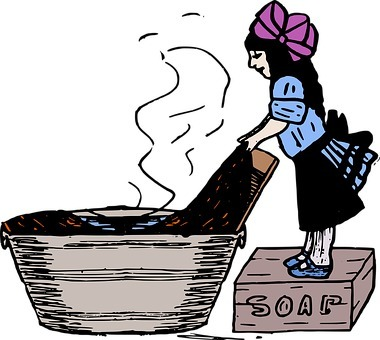person: (227, 2, 368, 277)
